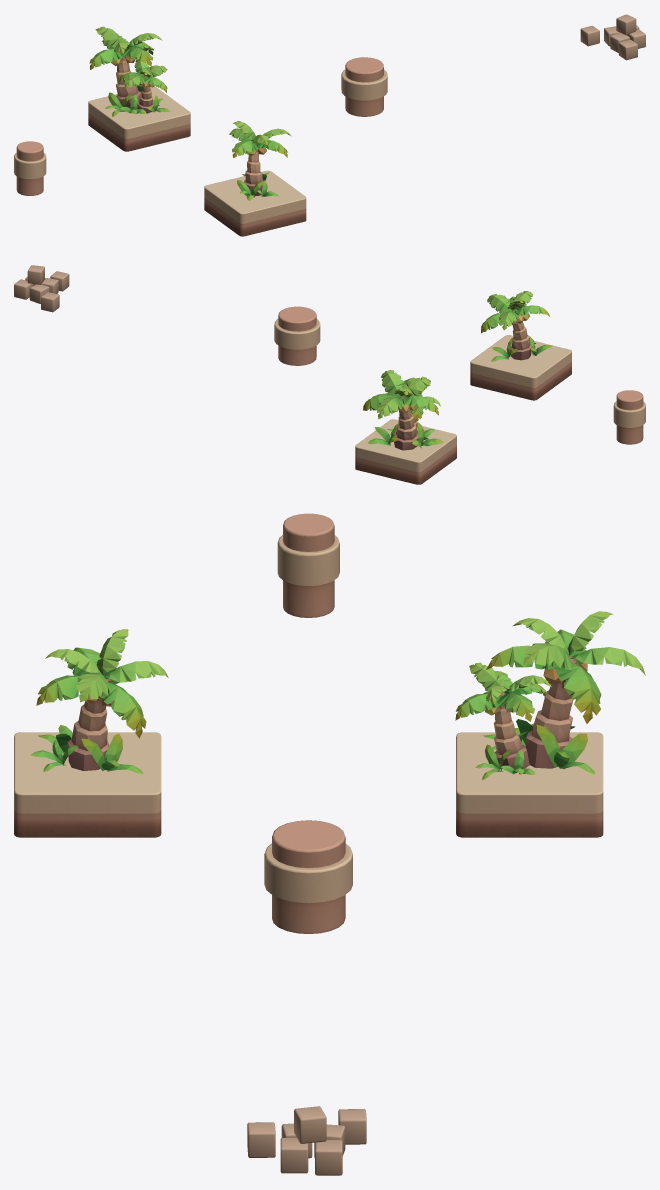
File: Props.fbx
3 views of the same model, one above another, from view 1: azimuth 30°, elevation 25°; view 2: azimuth 150°, elevation 25°; view 3: azimuth 270°, elevation 25° (orthographic). The views are drawn at different scales.
Visible parts, largest first — view 1: Box02, yezishu01, Box02 (1), Cylinder, yezishu02, Cylinder-2, Box1-5 (5), Box1-5, Box1-5 (6); view 2: Box02, Box02 (1), yezishu01, yezishu02, Cylinder, Cylinder-2, Box1-5 (6); view 3: yezishu01, Box02, Box02 (1), yezishu02, Cylinder, Cylinder-2, Box1-5 (5), Box1-5, Box1-5 (1), Box1-5 (2).
Part boxes in pixels (left/top/right/bottom): Box02: left=204, top=170, right=306, bottom=236; yezishu01: left=89, top=26, right=170, bottom=116; Box02 (1): left=88, top=86, right=190, bottom=151; Cylinder: left=341, top=57, right=387, bottom=116; yezishu02: left=229, top=121, right=291, bottom=200; Cylinder-2: left=14, top=141, right=46, bottom=195; Box1-5 (5): left=616, top=14, right=636, bottom=34; Box1-5: left=618, top=39, right=637, bottom=60; Box1-5 (6): left=580, top=25, right=599, bottom=46; Box02: left=470, top=335, right=571, bottom=400; Box02 (1): left=355, top=419, right=456, bottom=484; yezishu01: left=363, top=370, right=443, bottom=450; yezishu02: left=481, top=291, right=552, bottom=361; Cylinder: left=274, top=306, right=320, bottom=365; Cylinder-2: left=613, top=390, right=645, bottom=444; Box1-5 (6): left=41, top=292, right=59, bottom=312; yezishu01: left=455, top=611, right=645, bottom=780; Box02: left=14, top=732, right=161, bottom=837; Box02 (1): left=456, top=732, right=603, bottom=837; yezishu02: left=31, top=629, right=168, bottom=774; Cylinder: left=264, top=820, right=352, bottom=933; Cylinder-2: left=277, top=513, right=339, bottom=617; Box1-5 (5): left=294, top=1106, right=326, bottom=1143; Box1-5: left=247, top=1122, right=275, bottom=1157; Box1-5 (1): left=315, top=1140, right=342, bottom=1175; Box1-5 (2): left=280, top=1138, right=308, bottom=1173.
Bounding box in the file's own units: 74.77 × 10.64 × 34.31.
